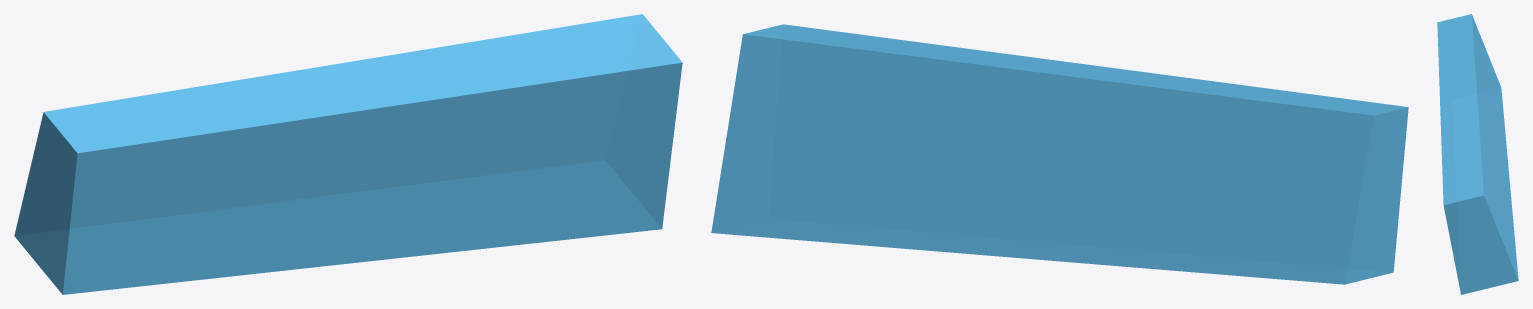
Rendered from Event_421115418_HErechit_115.fbx.
3 renders of one model, left to right at view 1: azimuth 30°, elevation 25°; view 2: azimuth 150°, elevation 25°; view 3: azimuth 270°, elevation 25°, orthographic. The views are drawn at different scales.
Visible parts, largest first — view 1: Model; view 2: Model; view 3: Model.
Boxes of the visible parts, left/top/right/bottom form: Model: left=14, top=14, right=682, bottom=294; Model: left=711, top=24, right=1408, bottom=284; Model: left=1437, top=14, right=1518, bottom=294.
Bounding box in the file's own units: 1.93 × 0.7789 × 0.4394.
